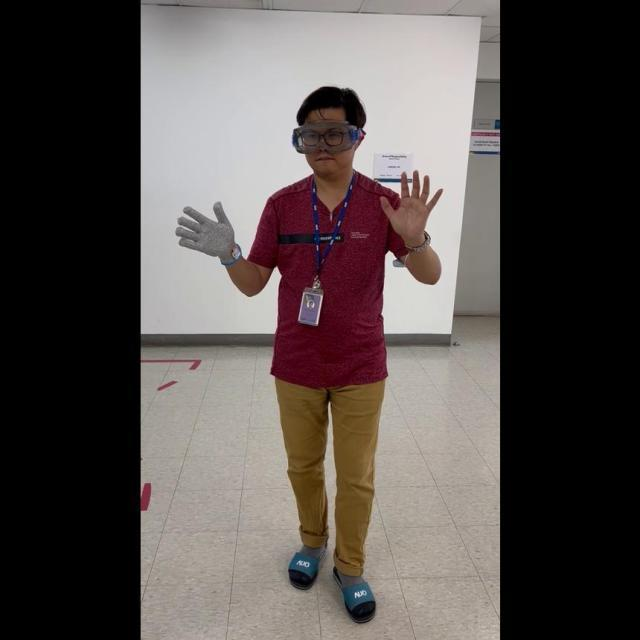bare_hand: (377, 162, 442, 243)
gloved_hand: (172, 196, 243, 266)
